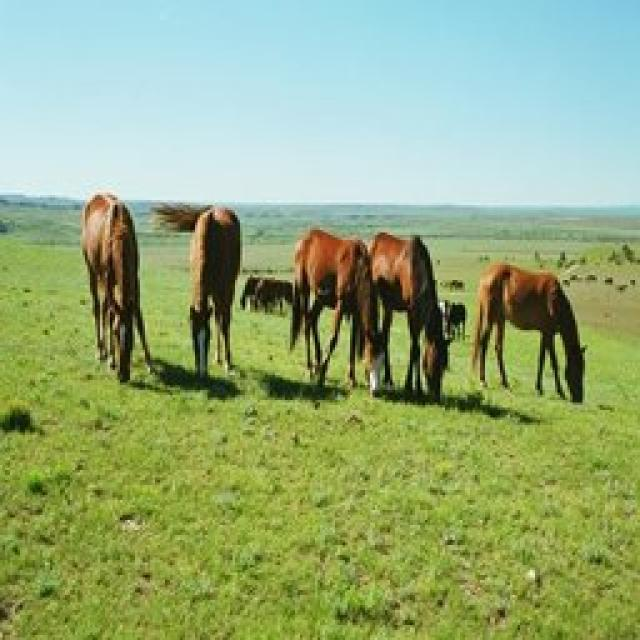not_pig: (470, 260, 585, 402), (150, 200, 240, 378), (362, 230, 450, 400), (287, 228, 375, 390), (80, 190, 152, 382), (80, 192, 118, 362), (240, 275, 292, 313), (238, 275, 260, 310)
